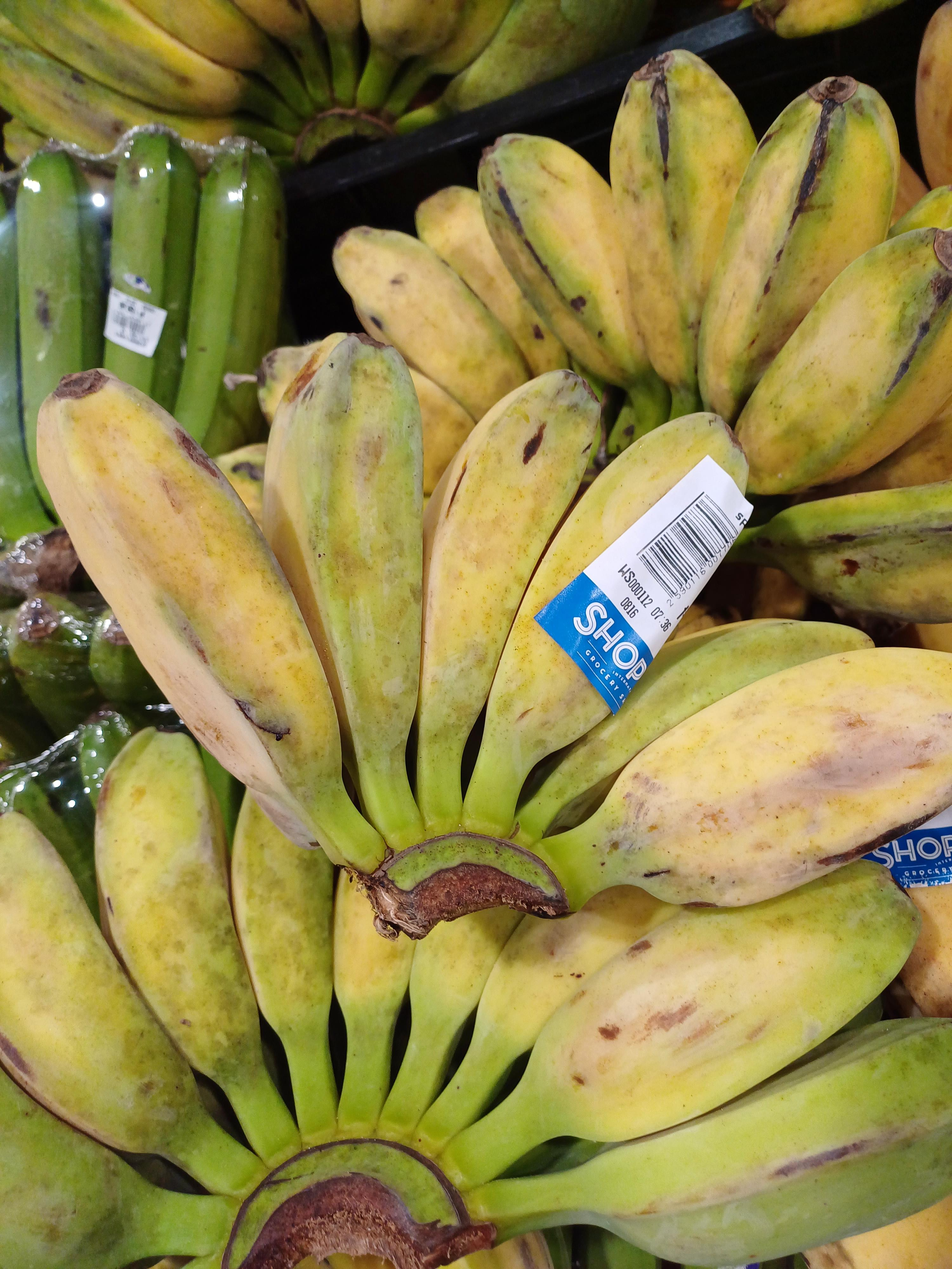underripe: (35, 330, 952, 907), (0, 725, 952, 1269), (333, 50, 952, 495), (536, 452, 752, 730)
